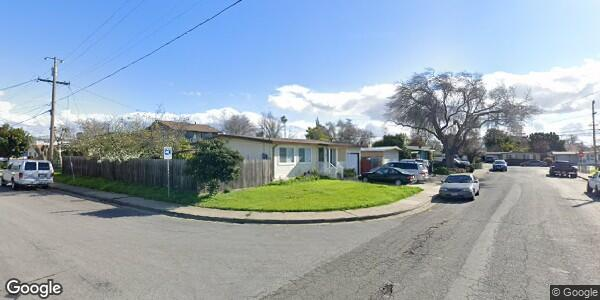Wood_Pole: (34, 53, 73, 161)
